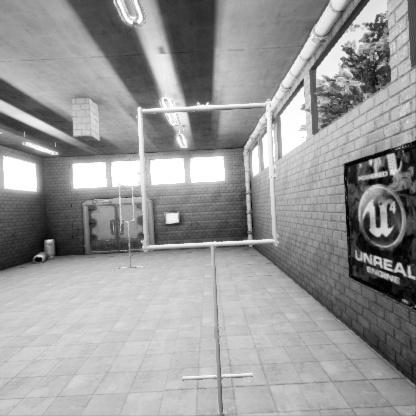gate: (139, 170, 290, 322), (118, 194, 134, 233)
